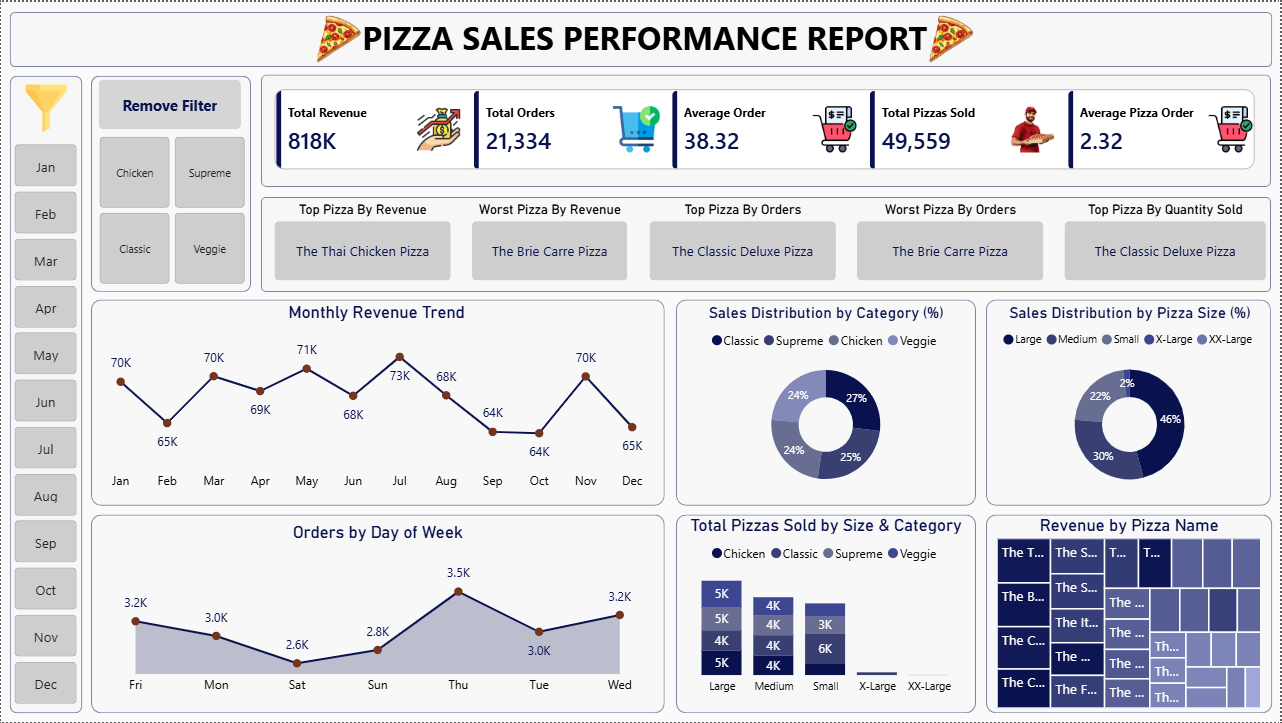

This screenshot's page, from the dashboard's own definition file:
{"tool":"powerbi","page":{"name":"Dashboard","canvas":[1280,720],"ordinal":0},"visuals":[{"type":"group","id":"g1","title":"Group 1","box":[8.8,9.4,1262.5,701.2],"z":0},{"type":"shape","box":[8.8,9.4,1262.5,55],"z":0,"group":"g1"},{"type":"shape","box":[8.8,73.2,72.5,637.5],"z":1000,"group":"g1"},{"type":"cardVisual","fields":{"Data":["Pizza Sales.Total Revenue","Pizza Sales.Total Orders","Pizza Sales.Average Order Value","Pizza Sales.Total Pizzas Sold","Pizza Sales.Average Pizzas Per Order"]},"box":[268.8,82.5,992.5,90],"z":1000},{"type":"shape","box":[90,72.5,160,216.2],"z":2000,"group":"g1"},{"type":"lineChart","title":"Orders by Day of Week","fields":{"Y":["Pizza Sales.Total Orders"],"Category":["Pizza Sales.Day Name"]},"box":[97.5,520,558.8,181.2],"z":2000},{"type":"shape","box":[260,71.3,1010,112.5],"z":3000,"group":"g1"},{"type":"donutChart","title":"Sales Distribution by Category (%)","fields":{"Category":["Pizza Sales.pizza_category"],"Y":["Pizza Sales.Total Revenue"]},"box":[683.8,301.2,282.5,197.5],"z":3000},{"type":"shape","box":[260,193.8,1010,95],"z":4000,"group":"g1"},{"type":"donutChart","title":"Sales Distribution by Pizza Size (%)","fields":{"Y":["Pizza Sales.Total Revenue"],"Category":["Pizza Sales.pizza_size"]},"box":[987.5,301.2,282.5,197.5],"z":4000},{"type":"shape","box":[90,296.9,573.8,206.2],"z":5000,"group":"g1"},{"type":"columnChart","title":"Total Pizzas Sold by Size & Category","fields":{"Category":["Pizza Sales.pizza_size"],"Y":["Pizza Sales.Total Pizzas Sold"],"Series":["Pizza Sales.pizza_category"]},"box":[675,512.5,300,188.8],"z":5000},{"type":"shape","box":[675,296.9,300,206.2],"z":6000,"group":"g1"},{"type":"treemap","title":"Revenue by Pizza Name","fields":{"Group":["Pizza Sales.pizza_name"],"Values":["Pizza Sales.Total Revenue"]},"box":[991.2,512.5,273.8,198.8],"z":6000},{"type":"advancedSlicerVisual","title":"Top Pizza By Revenue","fields":{"Values":["Pizza Sales.pizza_name"]},"box":[268.8,200,186.2,83.8],"z":7000},{"type":"shape","box":[90,511.9,573.8,198.8],"z":7000,"group":"g1"},{"type":"advancedSlicerVisual","title":"Worst Pizza By Revenue","fields":{"Values":["Pizza Sales.pizza_name"]},"box":[466.6,200,165,83.8],"z":7001},{"type":"advancedSlicerVisual","title":"Top Pizza By Orders","fields":{"Values":["Pizza Sales.pizza_name"]},"box":[643.1,200,196.2,83.8],"z":7002},{"type":"advancedSlicerVisual","title":"Worst Pizza By Orders","fields":{"Values":["Pizza Sales.pizza_name"]},"box":[850.9,200,196.2,83.8],"z":7003},{"type":"advancedSlicerVisual","title":"Top Pizza By Quantity Sold","fields":{"Values":["Pizza Sales.pizza_name"]},"box":[1058.8,200,211.2,83.8],"z":7004},{"type":"advancedSlicerVisual","fields":{"Values":["Pizza Sales.Month Name"]},"box":[8.8,137.5,72.5,573.8],"z":7005},{"type":"advancedSlicerVisual","fields":{"Values":["Pizza Sales.pizza_category"]},"box":[93.8,130,156.2,158.8],"z":7006},{"type":"actionButton","box":[97.5,77.5,142.5,50],"z":7007},{"type":"image","box":[17.5,82.5,55,47.5],"z":7008},{"type":"textbox","box":[17.5,8.8,1252.5,56.2],"z":7009},{"type":"image","box":[898.8,10,100,55],"z":7010},{"type":"image","box":[286.2,10,100,55],"z":7011},{"type":"shape","box":[985,511.9,286.2,198.8],"z":8000,"group":"g1"},{"type":"shape","box":[985,296.9,285,206.2],"z":9000,"group":"g1"},{"type":"shape","box":[675,511.9,300,198.8],"z":10000,"group":"g1"},{"type":"lineChart","title":"Monthly Revenue Trend","fields":{"Category":["Pizza Sales.Month Name"],"Y":["Pizza Sales.Total Revenue"]},"box":[96.6,298.9,558.8,197.5],"z":11001,"group":"g1"}]}

Visuals, with their boxes in screenshot pixels (x1, y1, x2, y2), scaled from the page's 1280x720 canvas onto the 1282x723 screenshot:
"Group 1" group: (9, 9, 1273, 714)
shape: (9, 9, 1273, 65)
shape: (9, 74, 81, 714)
cardVisual - Pizza Sales.Total Revenue x Pizza Sales.Total Orders: (269, 83, 1263, 173)
shape: (90, 73, 250, 290)
"Orders by Day of Week" lineChart: (98, 522, 657, 704)
shape: (260, 72, 1272, 185)
"Sales Distribution by Category (%)" donutChart: (685, 302, 968, 501)
shape: (260, 195, 1272, 290)
"Sales Distribution by Pizza Size (%)" donutChart: (989, 302, 1272, 501)
shape: (90, 298, 665, 505)
"Total Pizzas Sold by Size & Category" columnChart: (676, 515, 977, 704)
shape: (676, 298, 977, 505)
"Revenue by Pizza Name" treemap: (993, 515, 1267, 714)
"Top Pizza By Revenue" advancedSlicerVisual: (269, 201, 456, 285)
shape: (90, 514, 665, 714)
"Worst Pizza By Revenue" advancedSlicerVisual: (467, 201, 633, 285)
"Top Pizza By Orders" advancedSlicerVisual: (644, 201, 841, 285)
"Worst Pizza By Orders" advancedSlicerVisual: (852, 201, 1049, 285)
"Top Pizza By Quantity Sold" advancedSlicerVisual: (1060, 201, 1272, 285)
advancedSlicerVisual - Pizza Sales.Month Name: (9, 138, 81, 714)
advancedSlicerVisual - Pizza Sales.pizza_category: (94, 131, 250, 290)
actionButton: (98, 78, 240, 128)
image: (18, 83, 73, 131)
textbox: (18, 9, 1272, 65)
image: (900, 10, 1000, 65)
image: (287, 10, 387, 65)
shape: (987, 514, 1273, 714)
shape: (987, 298, 1272, 505)
shape: (676, 514, 977, 714)
"Monthly Revenue Trend" lineChart: (97, 300, 656, 498)
